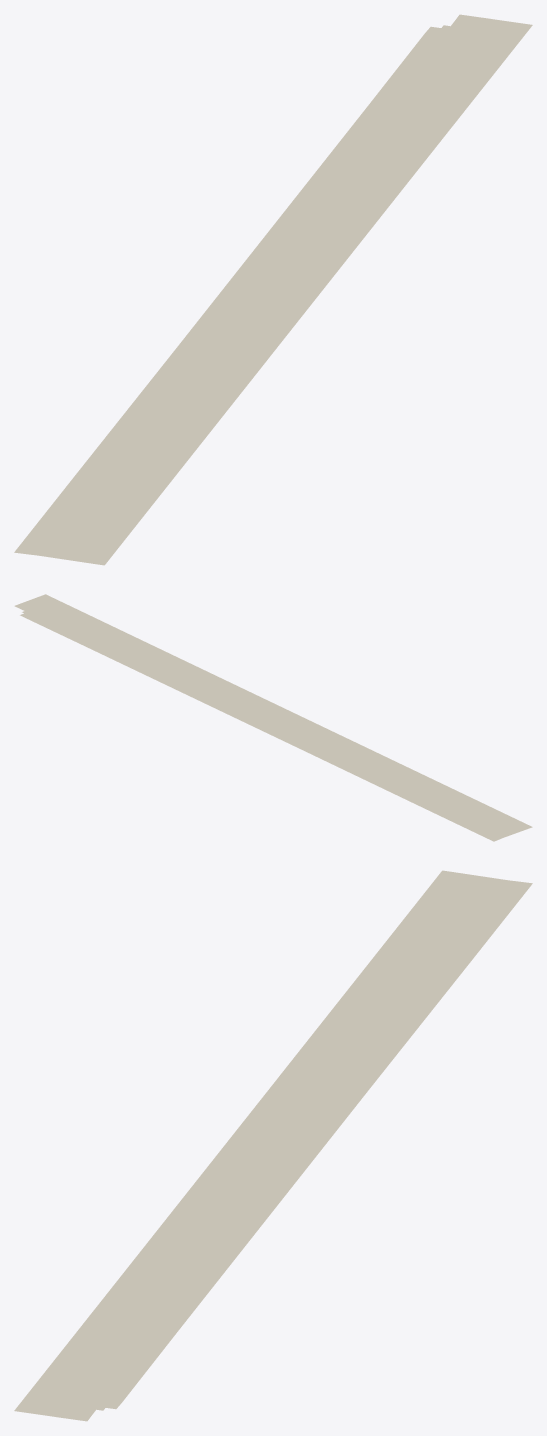
Rendered from lotnisko.gltf.
3 views of the same model, one above another, from view 1: azimuth 90°, elevation 25°; view 2: azimuth 150°, elevation 25°; view 3: azimuth 270°, elevation 25° (orthographic). The views are drawn at different scales.
Visible parts, largest first — view 1: Drapowane_lotnisko; view 2: Drapowane_lotnisko; view 3: Drapowane_lotnisko.
Boxes of the visible parts, x1,y1,x2,y2 form: Drapowane_lotnisko: (14, 14, 532, 565); Drapowane_lotnisko: (14, 594, 532, 841); Drapowane_lotnisko: (14, 870, 532, 1421).
Bounding box in the file's own units: 713 × 6.3e-14 × 284.
